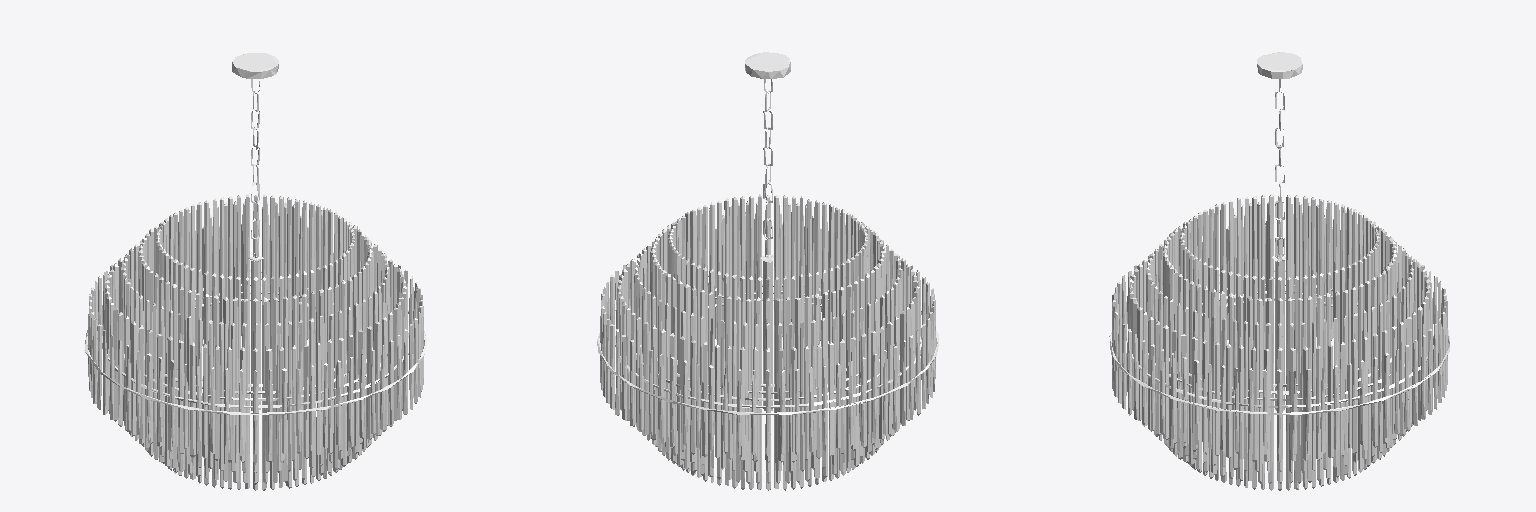
Rendered from canonical_model.obj.
3 views of the same model, side by side, from view 1: azimuth 30°, elevation 25°; view 2: azimuth 150°, elevation 25°; view 3: azimuth 270°, elevation 25° (orthographic).
Size of the model in its own units: 0.7978 by 1 by 0.7965.